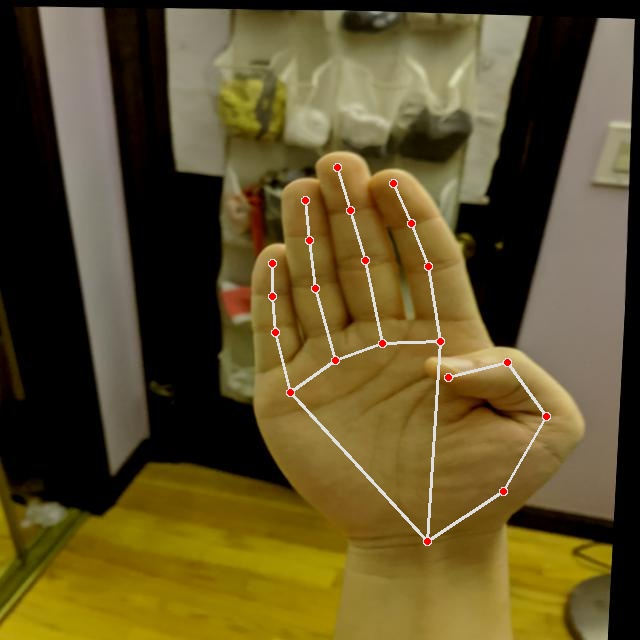B: (228, 134, 613, 550)
